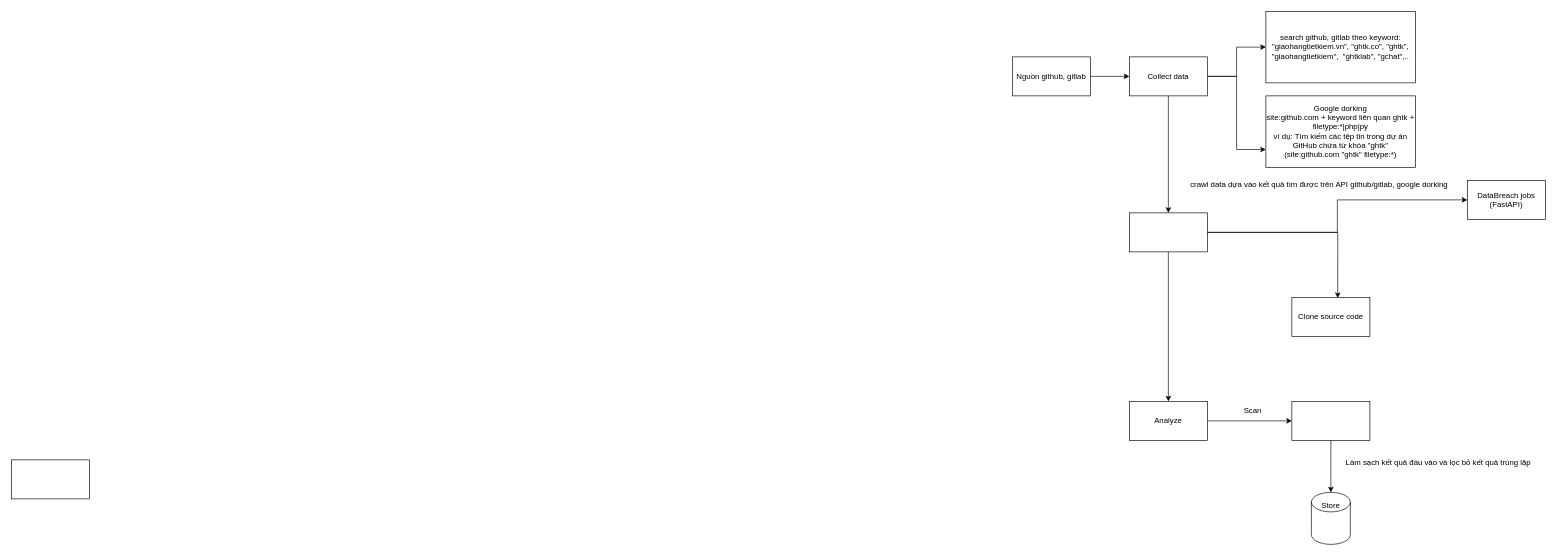
The diagram is 1557 pixels wide and 556 high, and some of its shapes have lost their labels. The shapes that lost their labels are listed below. From the top down, each one's box as (x1, y1, x2, y2) in pixels, then its label:
(1129, 212, 1207, 252): Process
(1291, 401, 1370, 440): TrufferHogg
(1311, 492, 1350, 544): DB
